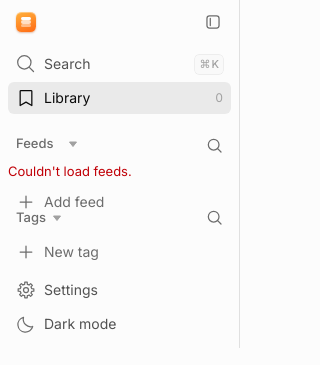
Test: Sidebar › + new tag › click opens an inline input; Enter creates the tag via useCreateTag and closes
Click the button "New tag".
click(120, 252)  # box [8,236,231,268]
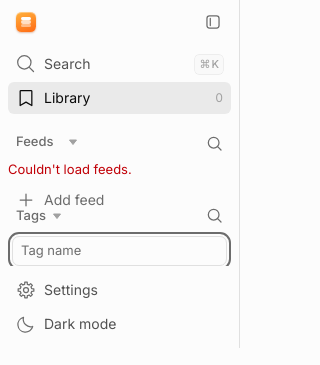
Type "newtag" into the field with placeholder "Tag name".
click(120, 251); type("newtag")  # box [12,236,227,266]
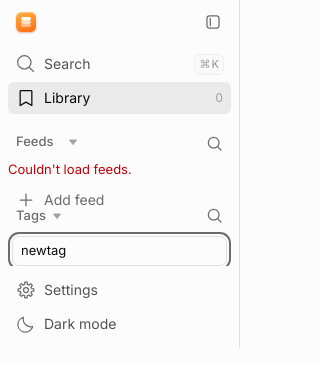
Press Enter in the field with placeholder "Tag name", box [12,236,227,266]
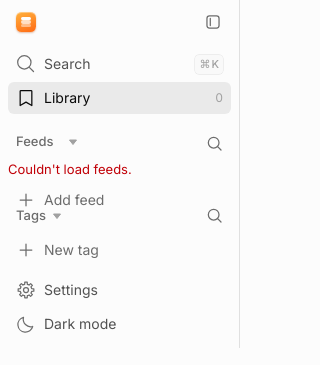
Check: the field with placeholder "Tag name" is not shown
Check: the button "New tag" is shown, box [8,234,231,266]
